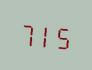five: (55, 20, 72, 52)
one: (37, 19, 54, 50)
seven: (18, 17, 35, 49)
